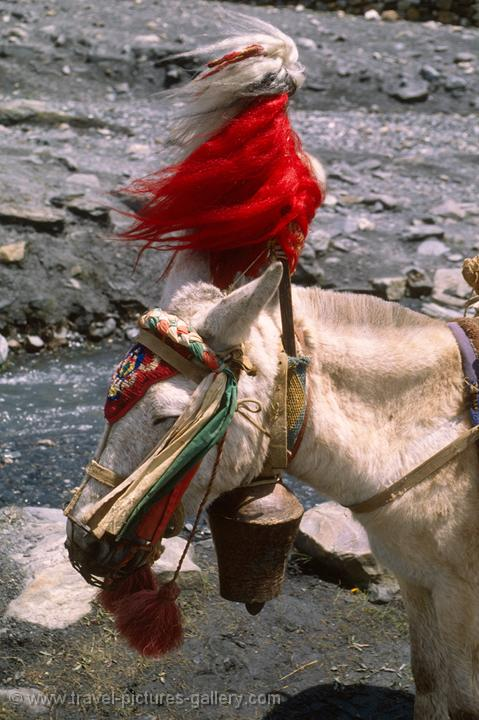equine: (50, 252, 479, 720)
